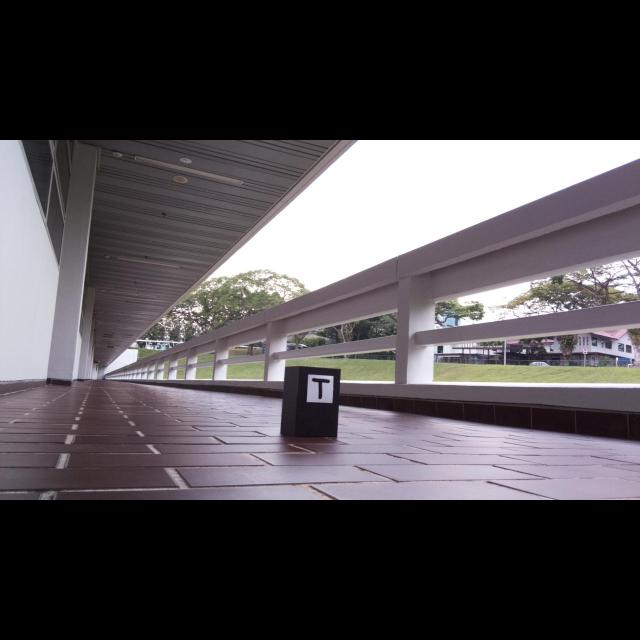T: (312, 378, 330, 399)
